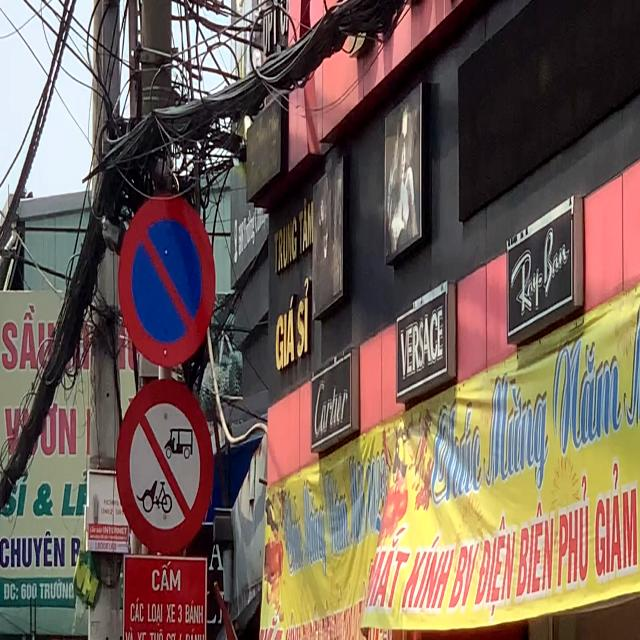P.131a: (119, 191, 216, 370)
